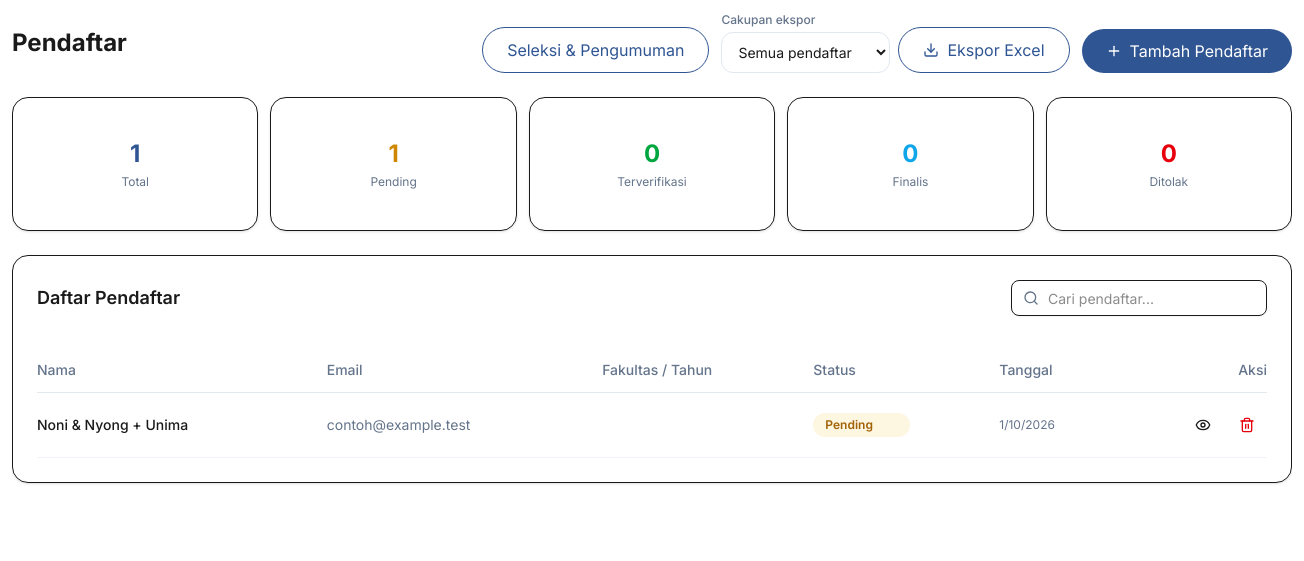
Test case: Applicants Excel export › explains login/admin access for HTTP 401 without downloading
Click the button "Ekspor Excel": (984, 50) [898,27,1070,73]
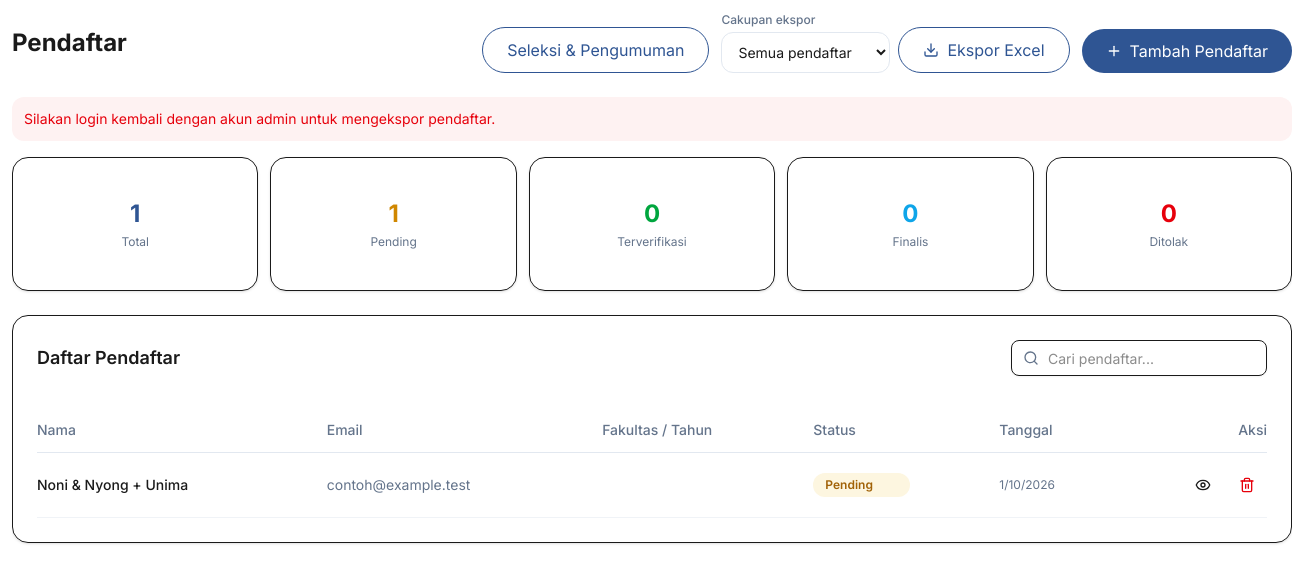
expect the dropdown labelled "Cakupan ekspor" is enabled: met, box [722,32,890,73]
expect the message shows "login kembali dengan akun admin": met, box [24,110,495,127]
